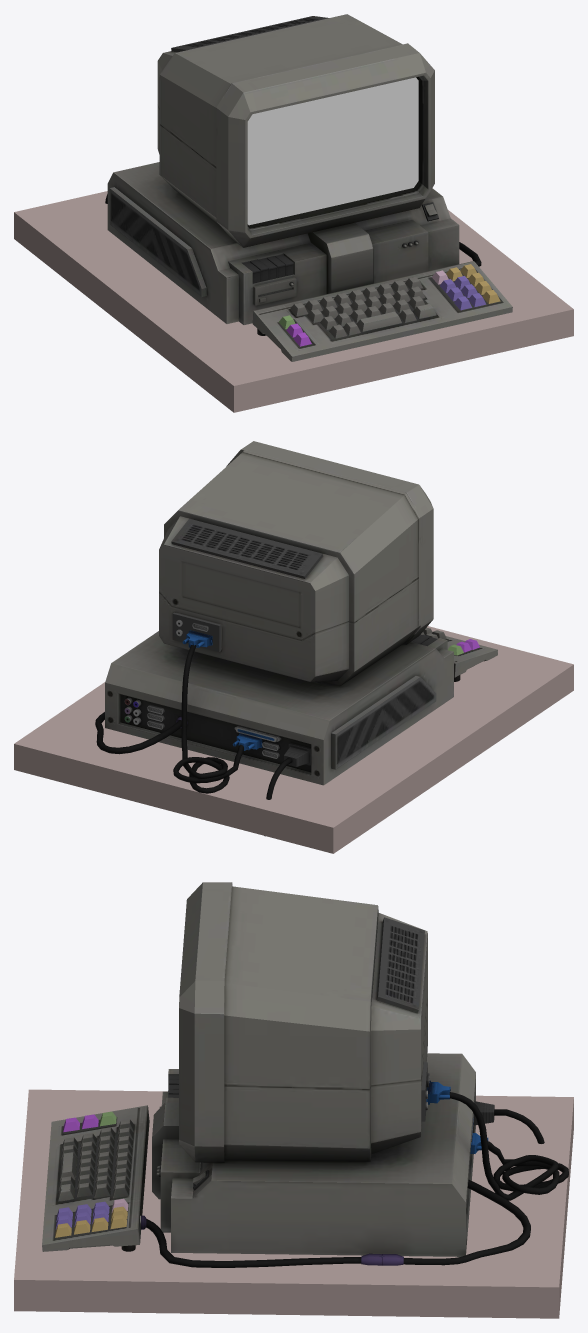
3 renders of one model, top to bottom at view 1: azimuth 30°, elevation 25°; view 2: azimuth 150°, elevation 25°; view 3: azimuth 270°, elevation 25°, orthographic. The views are drawn at different scales.
Visible parts, largest first — view 1: Monitor-B-_computer_0, monitor-screen; view 2: Monitor-B-_computer_0; view 3: Monitor-B-_computer_0.
Boxes of the visible parts, x1=… form: Monitor-B-_computer_0: x1=14, y1=14, x2=573, y2=412; monitor-screen: x1=247, y1=77, x2=418, y2=225; Monitor-B-_computer_0: x1=14, y1=441, x2=573, y2=853; Monitor-B-_computer_0: x1=14, y1=882, x2=573, y2=1318.
Bounding box in the file's own units: 257 × 180 × 307.
8 materials, 1 textured.
